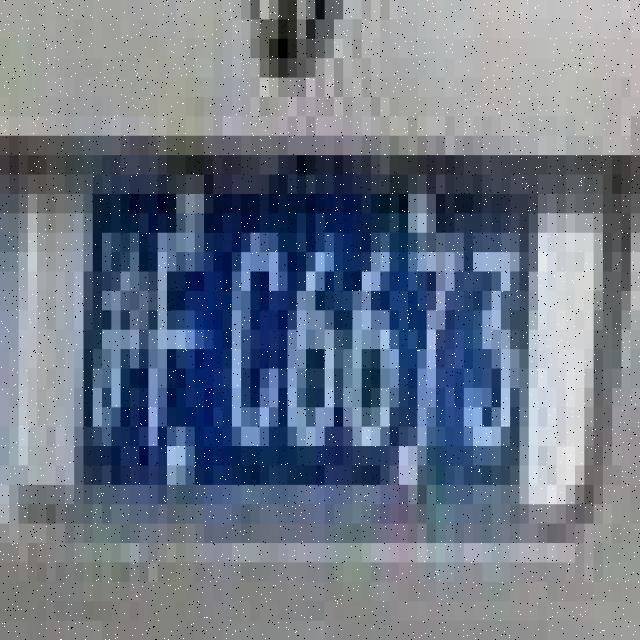LicensePlate: (18, 156, 605, 529)
